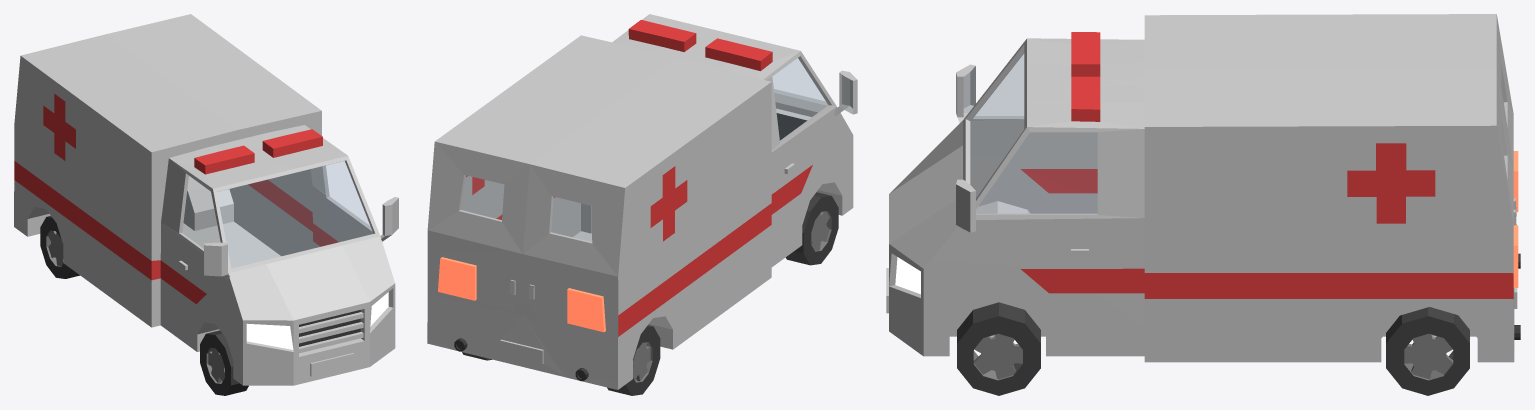
File: ambulance.glb
3 views of the same model, side by side, from view 1: azimuth 30°, elevation 25°; view 2: azimuth 150°, elevation 25°; view 3: azimuth 270°, elevation 25° (orthographic). The views are drawn at different scales.
Parts seen in each view (by area): view 1: Ambulance, Ambulance wheel front right, Ambulance wheel rear right; view 2: Ambulance, Ambulance wheel front right, Ambulance wheel rear right; view 3: Ambulance, Ambulance wheel front left, Ambulance wheel rear left.
Boxes of the visible parts, x1,y1,x2,y2 form: Ambulance: (14,14,398,385); Ambulance wheel front right: (200,330,248,395); Ambulance wheel rear right: (40,216,79,278); Ambulance: (427,14,857,389); Ambulance wheel front right: (785,192,838,265); Ambulance wheel rear right: (607,325,660,395); Ambulance: (886,14,1520,362); Ambulance wheel front left: (957,302,1040,395); Ambulance wheel rear left: (1386,307,1469,395).
Size of the model in its own units: 2.81 by 2.85 by 5.91.
